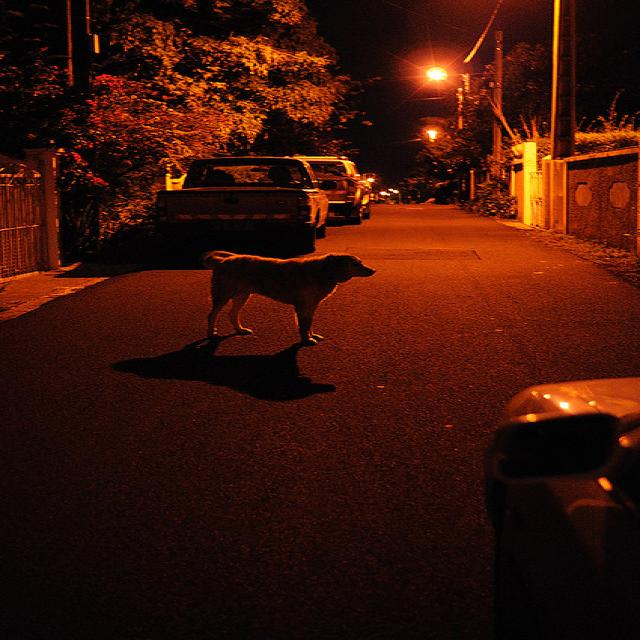Dog: (214, 208, 364, 366)
